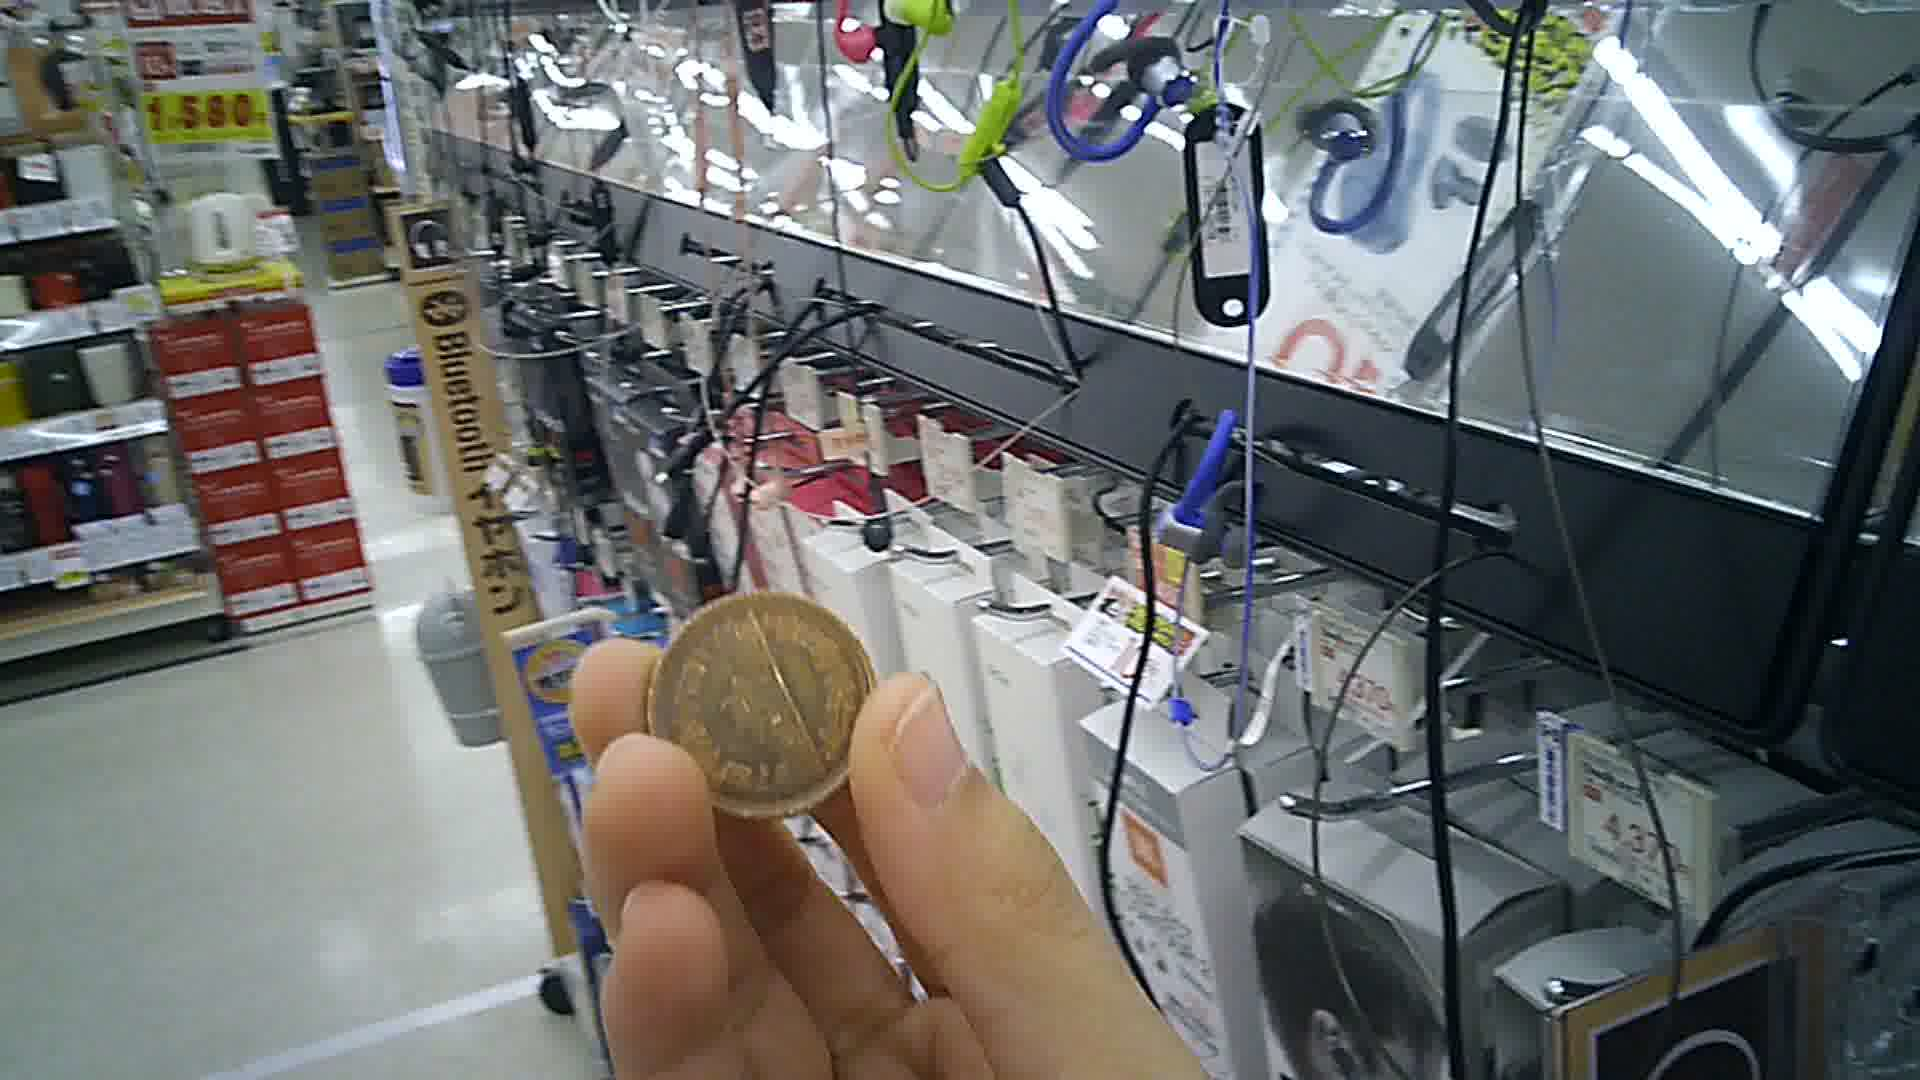10 Yen: (640, 593, 887, 823)
